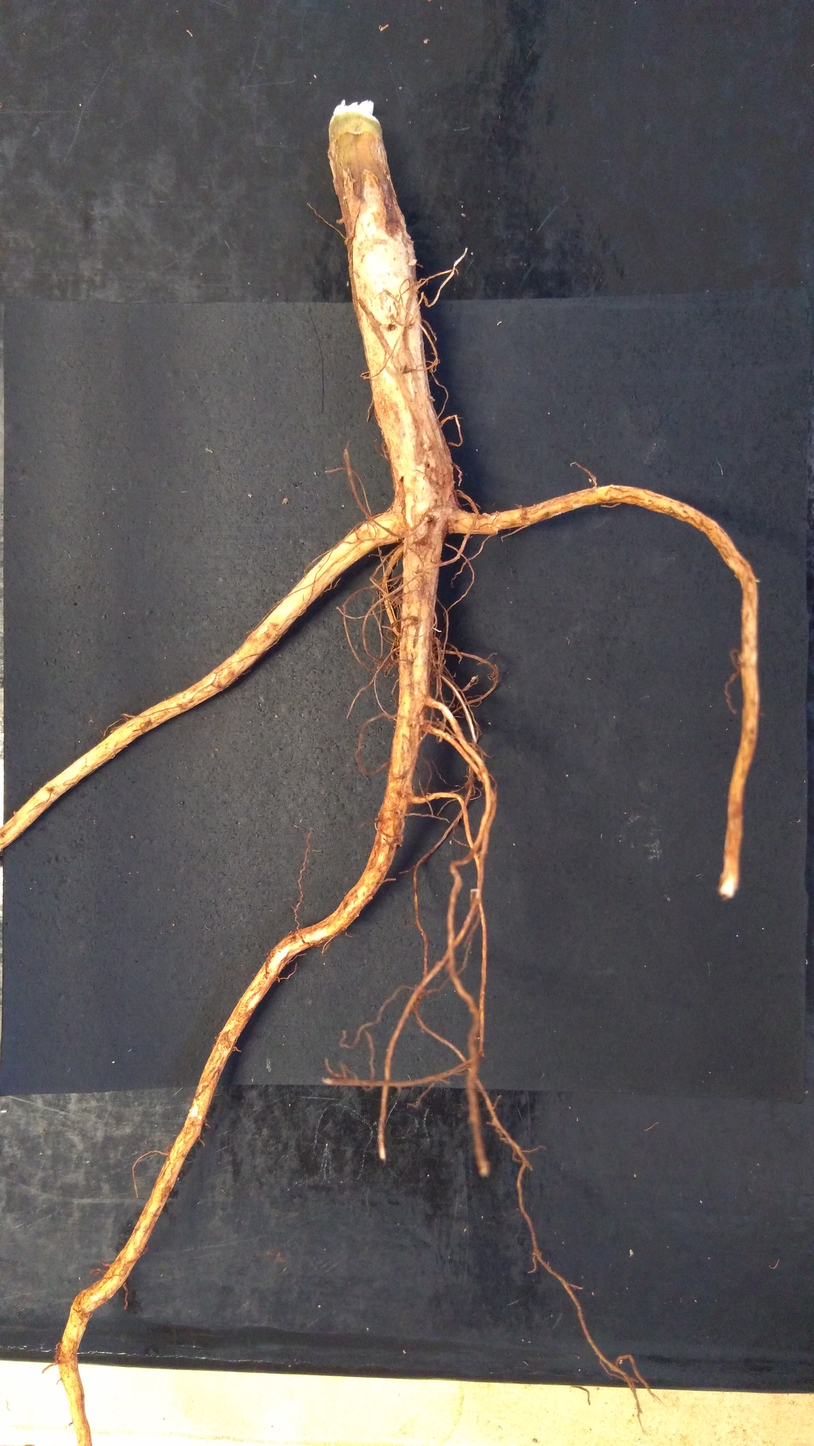nodule: (396, 831, 404, 847), (432, 636, 441, 645), (409, 258, 416, 267), (424, 516, 432, 523)
